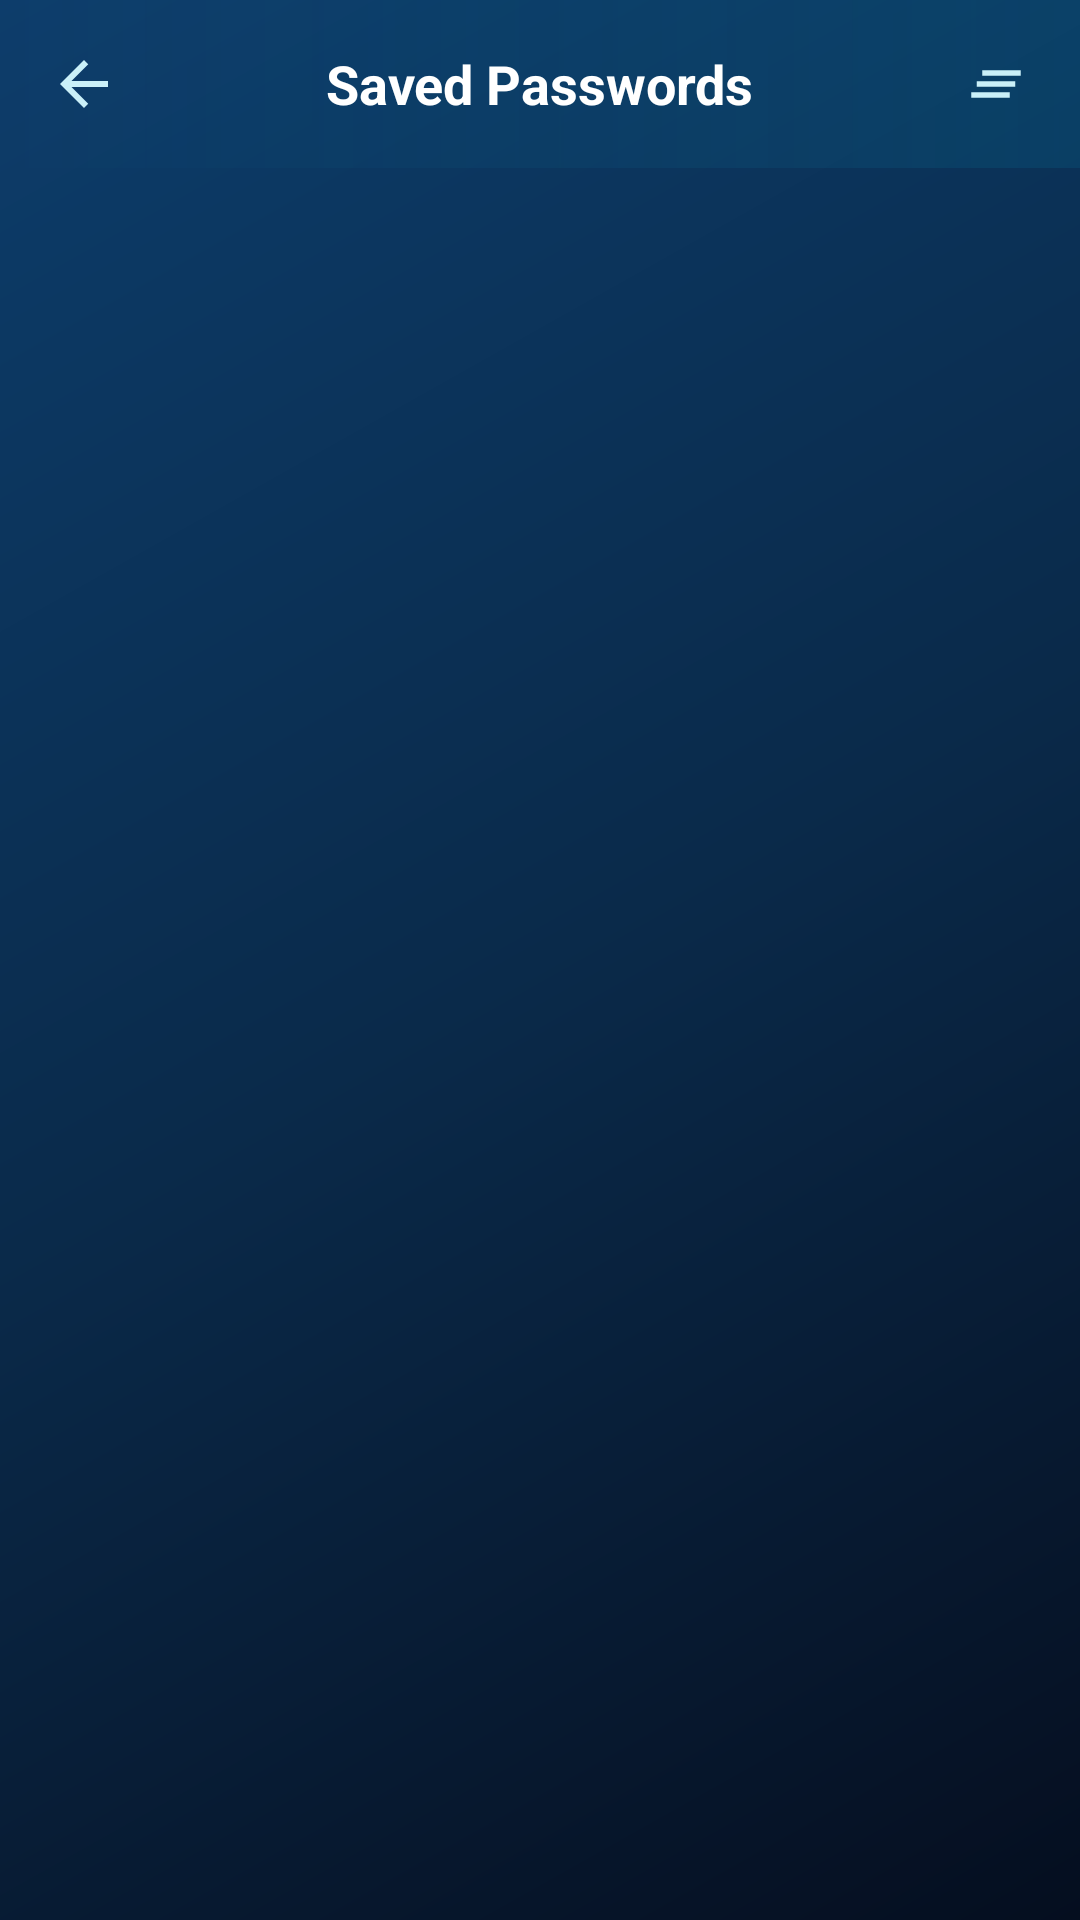

Point at icon controls on the screen. Image size 1080px×1920px, points as (x,y).
Back: (84,84)
Clear All: (996,84)
